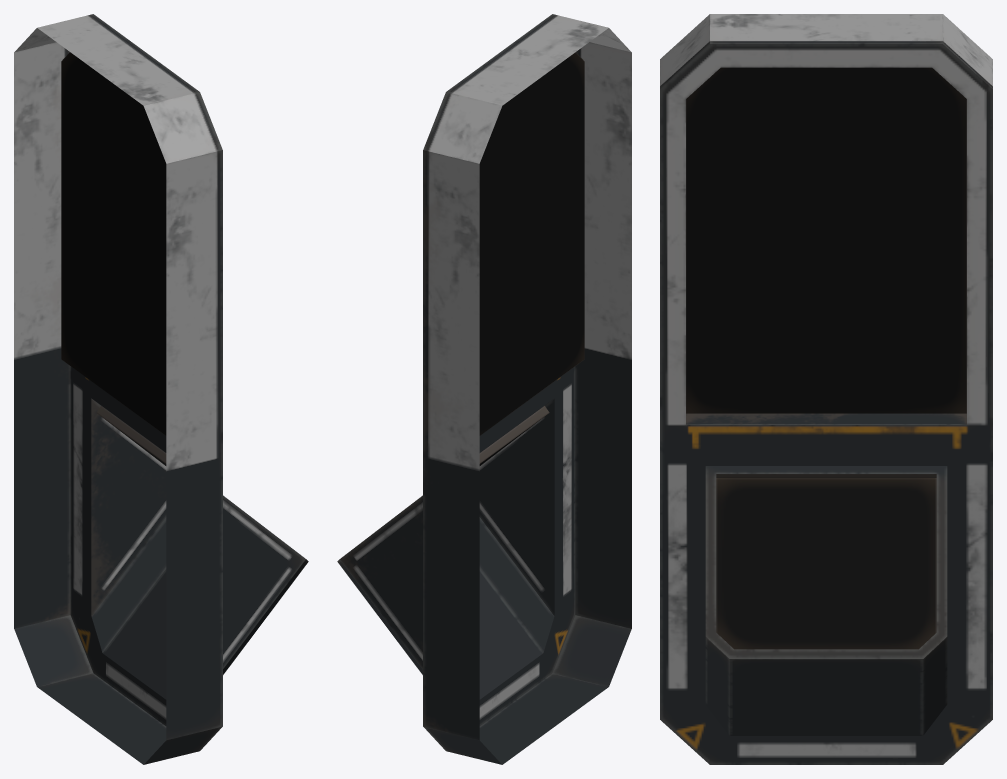
File: Elements2_1_Scifi_BS.fbx
The picture shows the model from 3 angles, left to right: view 1: azimuth 30°, elevation 25°; view 2: azimuth 150°, elevation 25°; view 3: azimuth 270°, elevation 25°; orthographic projection. The views are drawn at different scales.
Visible parts, largest first — view 1: Elements2_1_Scifi_BS; view 2: Elements2_1_Scifi_BS; view 3: Elements2_1_Scifi_BS.
Part boxes in pixels (bbox=[...]): Elements2_1_Scifi_BS: bbox=[14, 14, 308, 764]; Elements2_1_Scifi_BS: bbox=[337, 14, 631, 764]; Elements2_1_Scifi_BS: bbox=[660, 14, 992, 764].
Size of the model in its own units: 18.1 by 65.4 by 27.37.
Materials: 1 (1 with a texture image).
